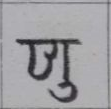u_matra: (49, 82, 79, 103)
